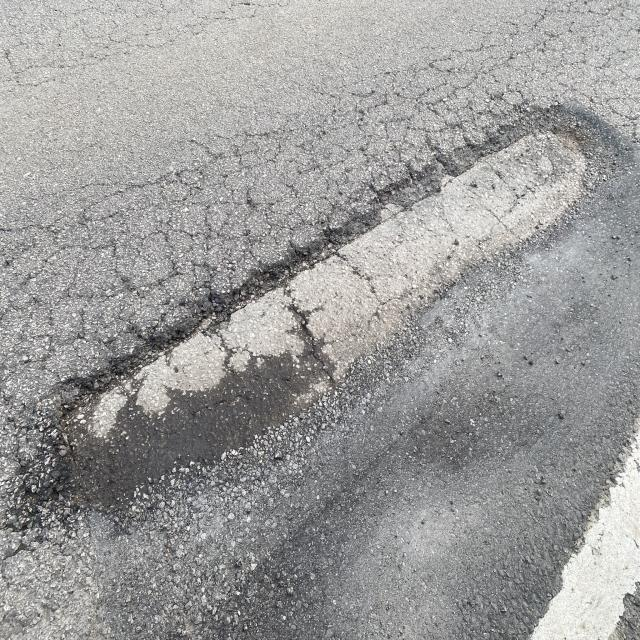pothole: (25, 241, 602, 483)
